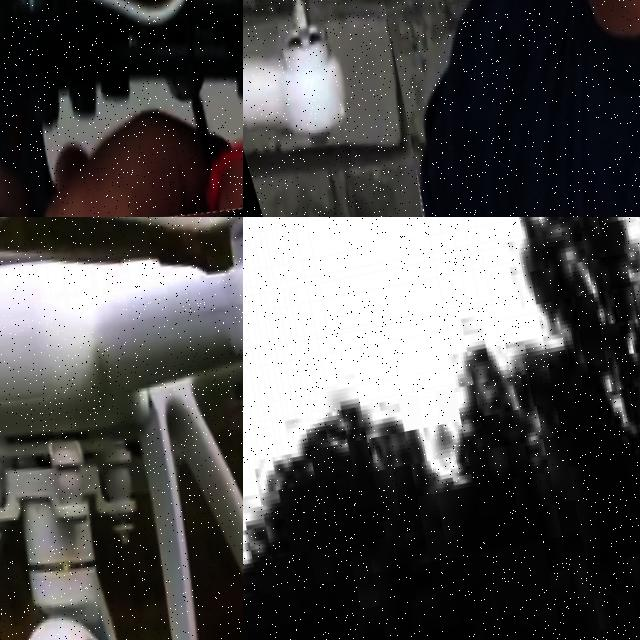drone: (0, 217, 243, 640), (0, 0, 243, 217), (243, 0, 440, 217)
